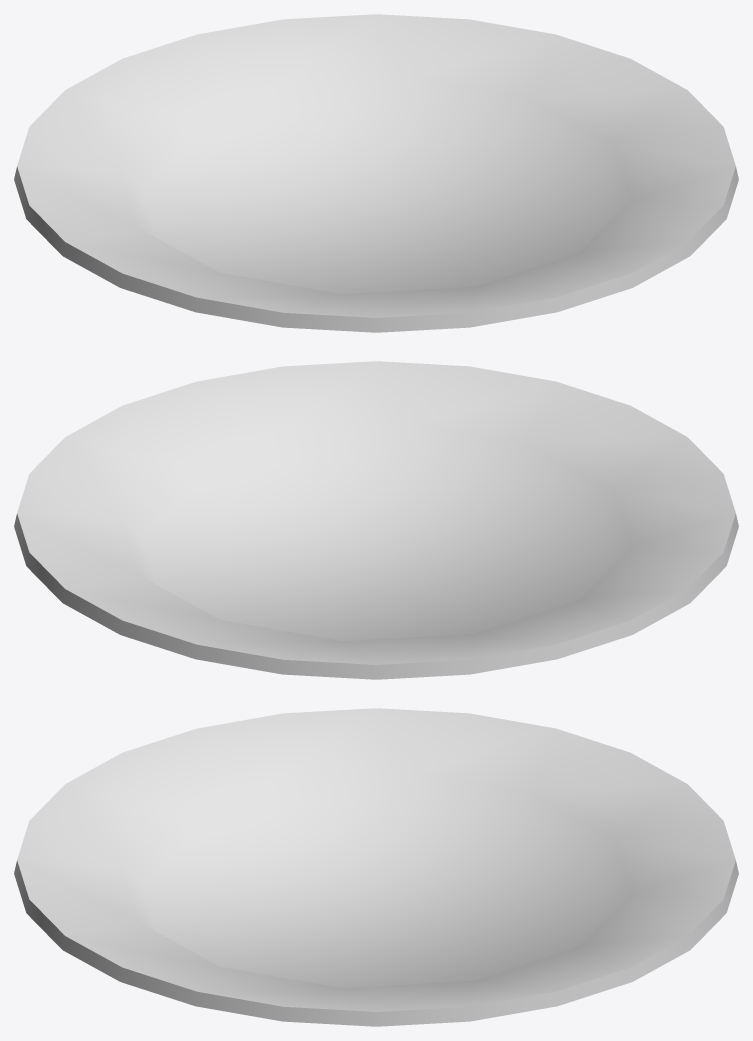
Rendered from PlateA.FBX.
3 views of the same model, one above another, from view 1: azimuth 30°, elevation 25°; view 2: azimuth 150°, elevation 25°; view 3: azimuth 270°, elevation 25° (orthographic).
Visible parts, largest first — view 1: PlateA_LOD0; view 2: PlateA_LOD0; view 3: PlateA_LOD0.
Part boxes in pixels (<box>): PlateA_LOD0: <box>14,14,738,332</box>; PlateA_LOD0: <box>14,361,738,679</box>; PlateA_LOD0: <box>14,708,738,1026</box>.
Size of what is drawn, in the model's own units: 23.79 by 1.89 by 23.79.
